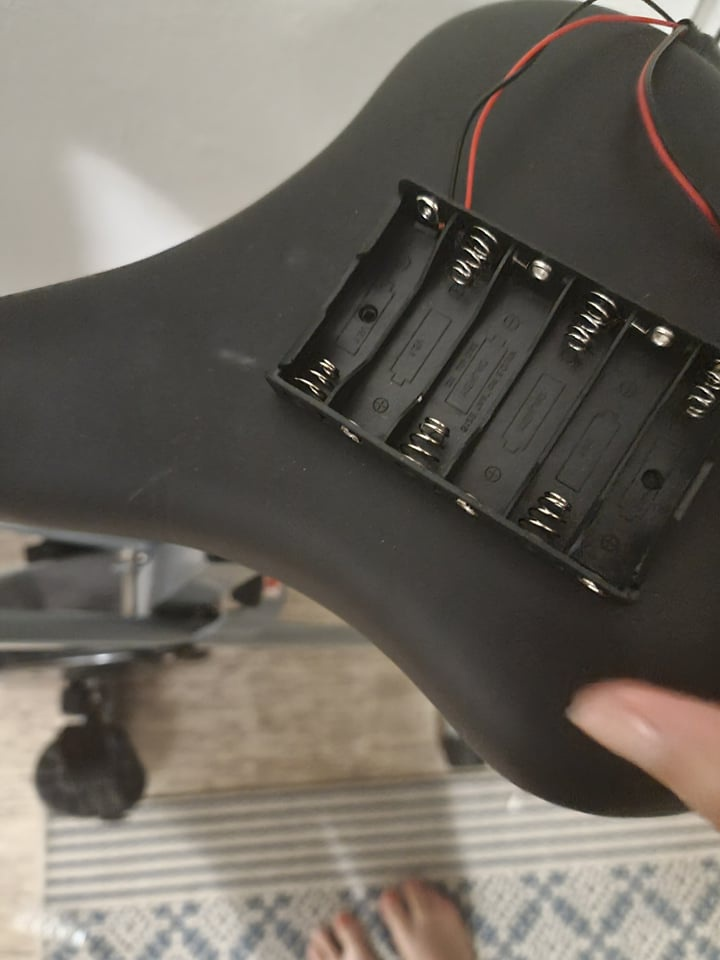BATTERY BOX: (271, 172, 719, 628)
